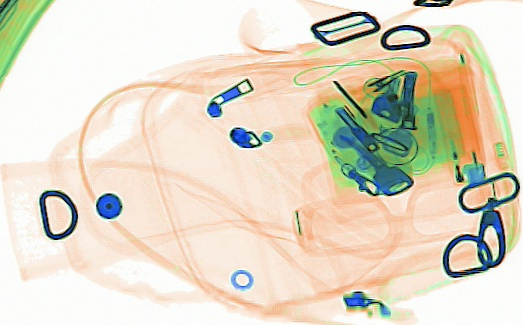lighter: (433, 83, 485, 187)
